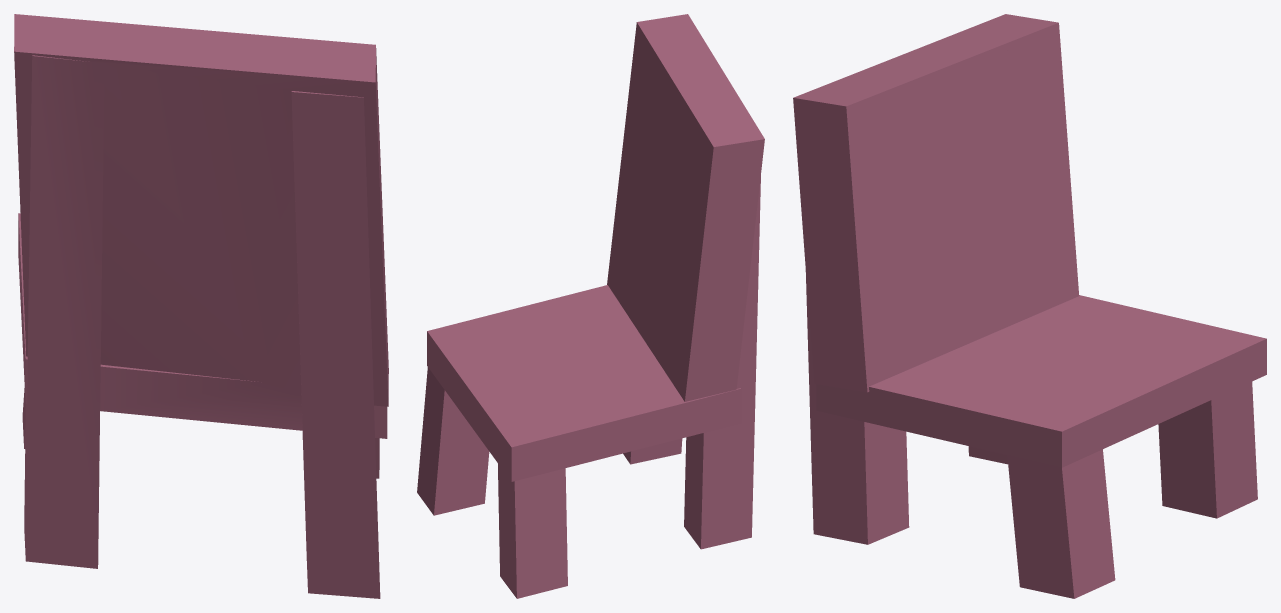
File: silla1.obj
The picture shows the model from 3 angles, left to right: view 1: azimuth 30°, elevation 25°; view 2: azimuth 150°, elevation 25°; view 3: azimuth 270°, elevation 25°; orthographic projection. The views are drawn at different scales.
Parts seen in each view (by area): view 1: pasted__polySurface46 group13; view 2: pasted__polySurface46 group13; view 3: pasted__polySurface46 group13.
Part boxes in pixels (bbox=[...]): pasted__polySurface46 group13: bbox=[14, 14, 388, 598]; pasted__polySurface46 group13: bbox=[417, 14, 764, 598]; pasted__polySurface46 group13: bbox=[793, 14, 1266, 598].
Size of the model in its own units: 1 by 1.27 by 1.25.
